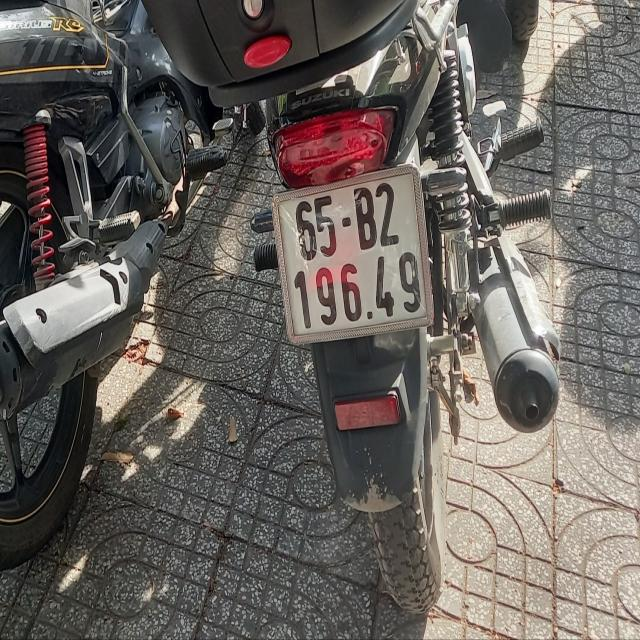1: (290, 268, 314, 332)
2: (374, 179, 403, 250)
4: (373, 256, 397, 319)
5: (314, 192, 338, 260)
6: (340, 259, 363, 326), (294, 201, 318, 263)
9: (398, 249, 424, 314), (314, 267, 339, 327)
B: (351, 184, 378, 254)
